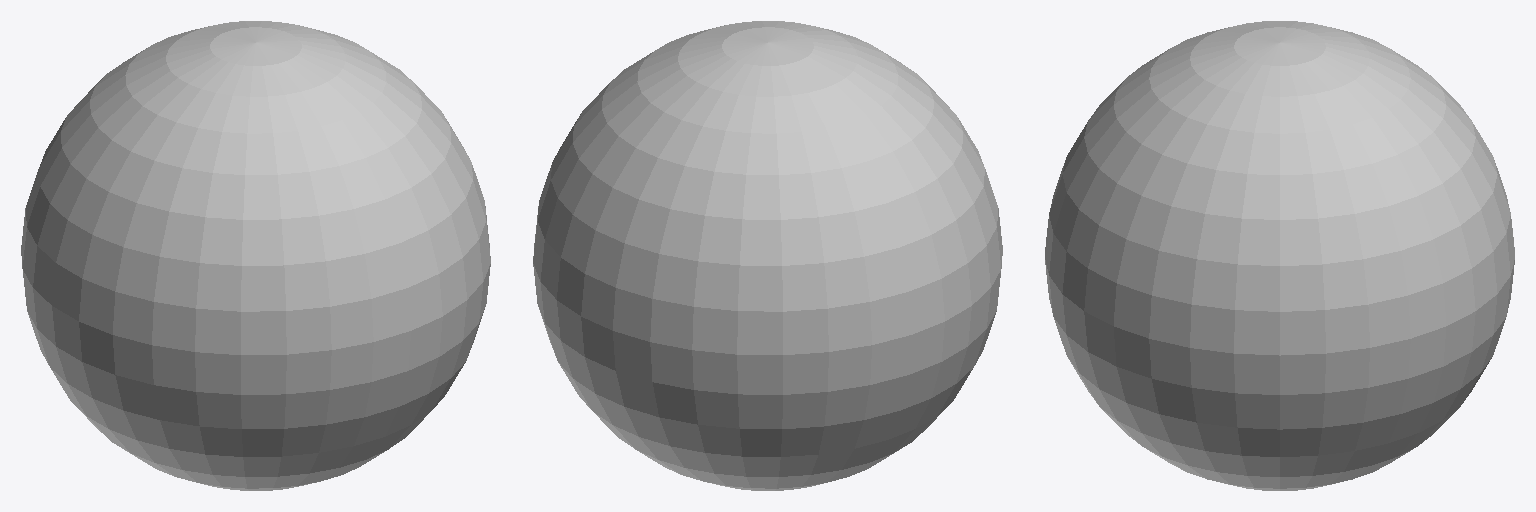
File: powerUp.obj
3 renders of one model, left to right at view 1: azimuth 30°, elevation 25°; view 2: azimuth 150°, elevation 25°; view 3: azimuth 270°, elevation 25°, orthographic.
Visible parts, largest first — view 1: Sphere; view 2: Sphere; view 3: Sphere.
Boxes of the visible parts, x1=… form: Sphere: x1=21, y1=21, x2=490, y2=490; Sphere: x1=533, y1=21, x2=1002, y2=490; Sphere: x1=1045, y1=21, x2=1514, y2=490.
Size of the model in its own units: 1 by 1 by 1.